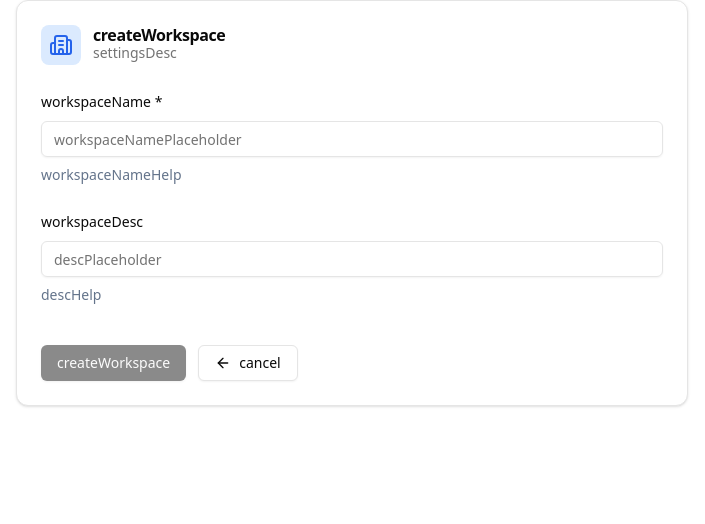
Test case: WorkspaceCreateForm — workspace cap (#1644) › localizes the cap from the canonical counts alone
Type "Acme" into the field labelled "workspaceName *" at (352, 139), box left=41, top=121, right=663, bottom=157
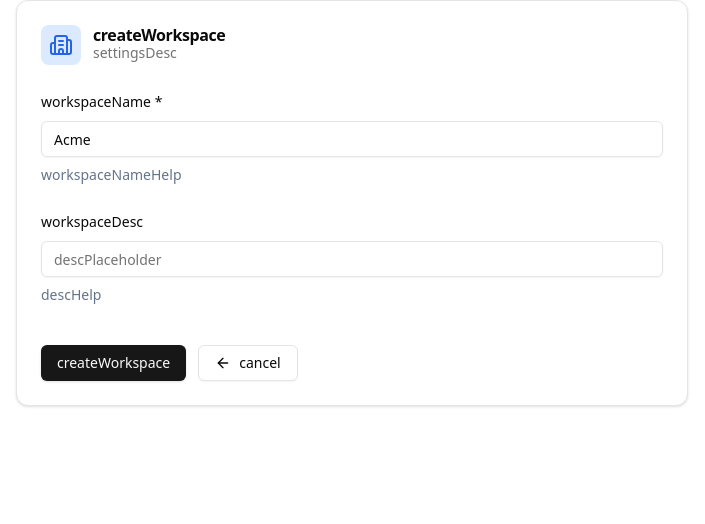
Submit the form labelled "workspaceName", box left=41, top=89, right=663, bottom=381
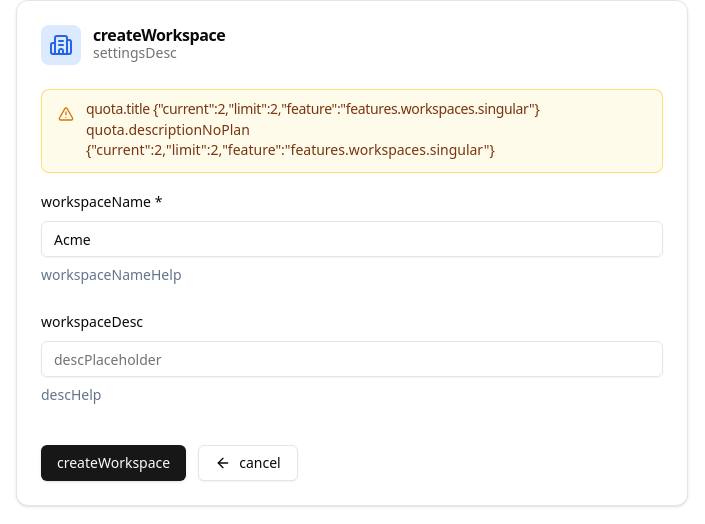
Now the message shows "quota.descriptionNoPlan {", box left=86, top=120, right=495, bottom=159
Now the message shows "\"current\":2,\"limit\":2", box left=86, top=99, right=539, bottom=118
